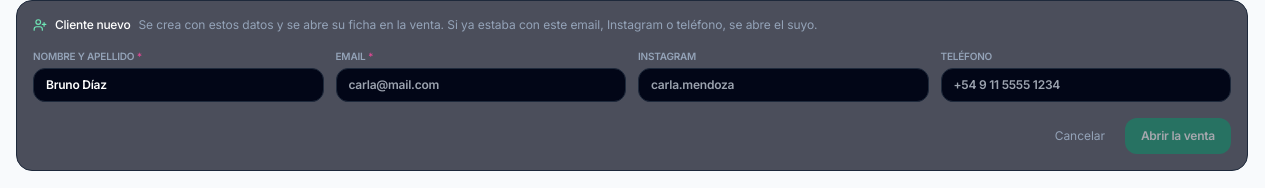
it: ClienteNuevoVenta › arranca con lo que se buscó y no deja abrir la venta sin nombre y email válido
The image size is (1265, 188).
Check: the field labelled "Nombre y apellido *" holds "Bruno Díaz", box [33,68,324,102]
Check: the button "Abrir la venta" is disabled, box [1125,118,1231,154]
Type "bruno.mail.com" into the field labelled "Email *" at coordinates (481, 85), box [336,68,626,102]
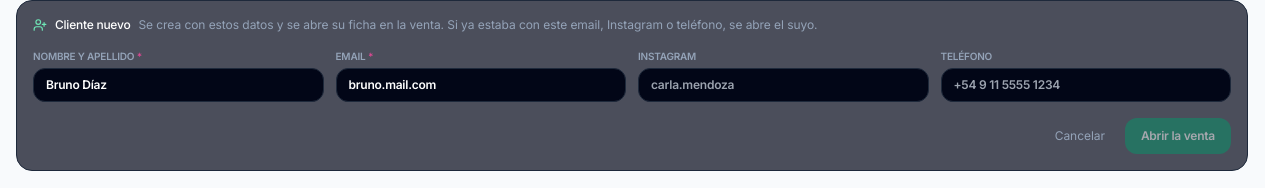
Check: the button "Abrir la venta" is disabled, box [1125,118,1231,154]
Replace the text in the field labelled "Email *" with "bruno@mail.com" at coordinates (481, 85), box [336,68,626,102]
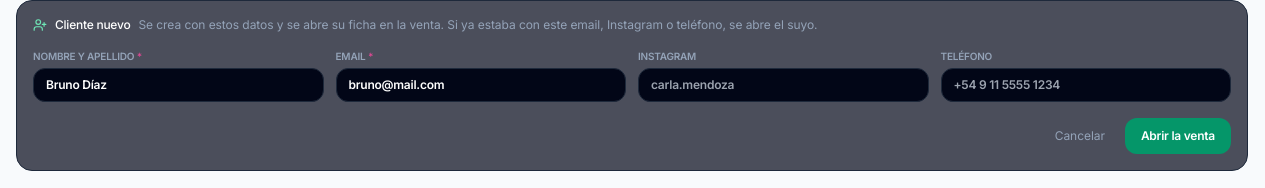
Check: the button "Abrir la venta" is enabled, box [1125,118,1231,154]
